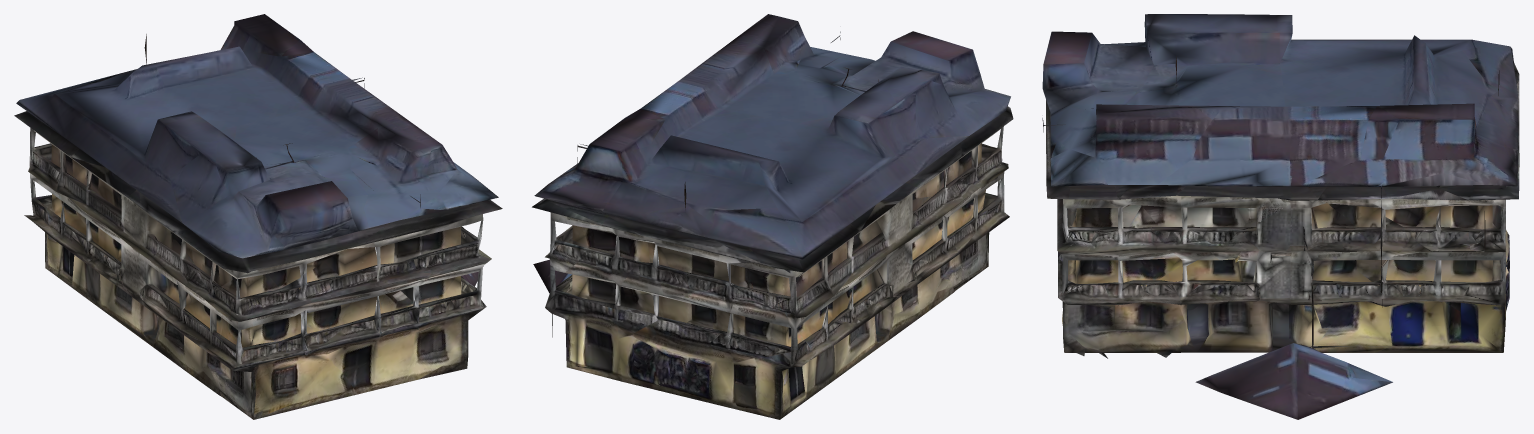
File: batisse-stmichel.glb
3 views of the same model, side by side, from view 1: azimuth 30°, elevation 25°; view 2: azimuth 150°, elevation 25°; view 3: azimuth 270°, elevation 25° (orthographic). The views are drawn at different scales.
Parts seen in each view (by area): view 1: tripo_node_aae5d1a2-60fc-4c6b-a742-82662670b5aa; view 2: tripo_node_aae5d1a2-60fc-4c6b-a742-82662670b5aa; view 3: tripo_node_aae5d1a2-60fc-4c6b-a742-82662670b5aa.
Boxes of the visible parts, left/top/right/bottom form: tripo_node_aae5d1a2-60fc-4c6b-a742-82662670b5aa: left=14, top=14, right=502, bottom=419; tripo_node_aae5d1a2-60fc-4c6b-a742-82662670b5aa: left=532, top=14, right=1013, bottom=419; tripo_node_aae5d1a2-60fc-4c6b-a742-82662670b5aa: left=1042, top=14, right=1519, bottom=419.
Size of the model in its own units: 0.953 by 0.5401 by 0.9968.
Materials: 1 (1 with a texture image).
